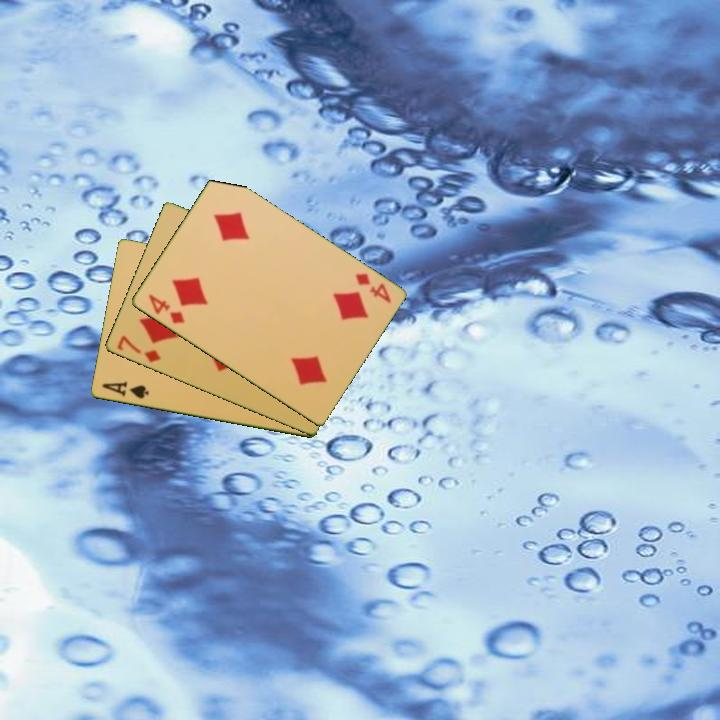4d: (351, 269, 394, 306), (144, 291, 188, 327)
7d: (113, 332, 163, 366)
As: (98, 378, 151, 402)
